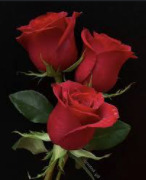RedRose: (42, 77, 113, 157), (15, 6, 87, 77), (78, 21, 139, 97)
